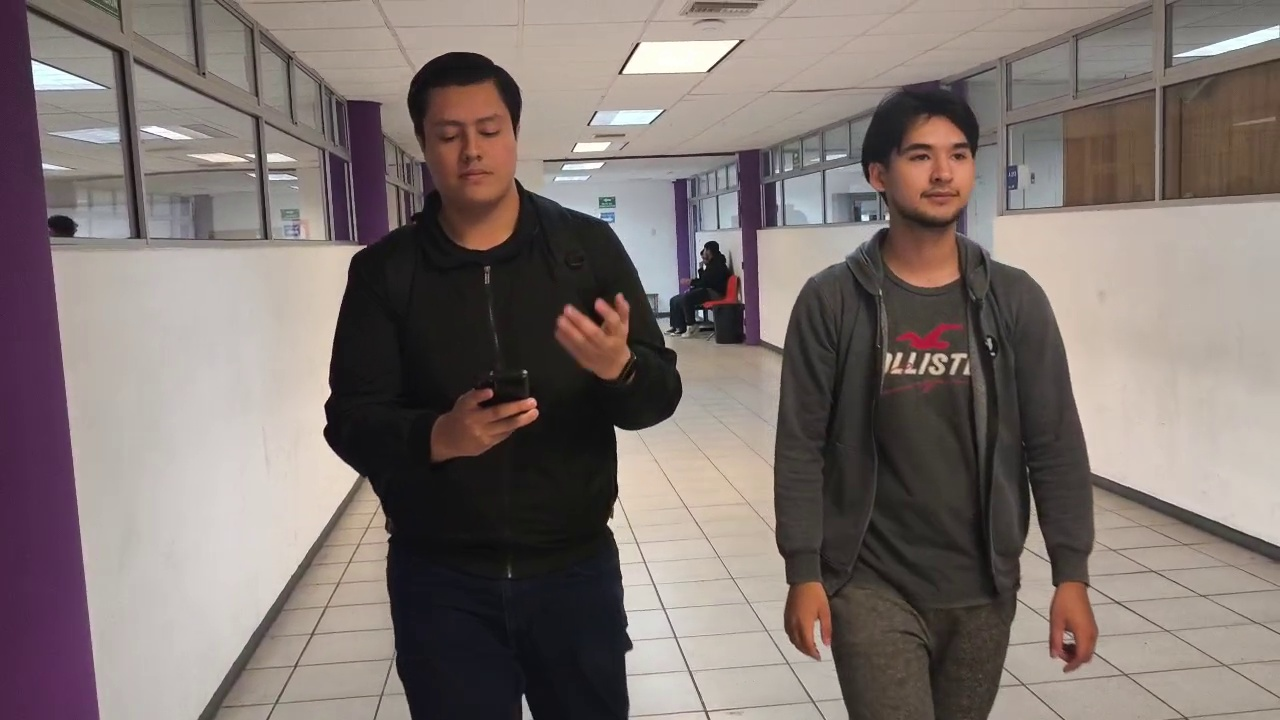mixto2: (466, 361, 538, 414)
